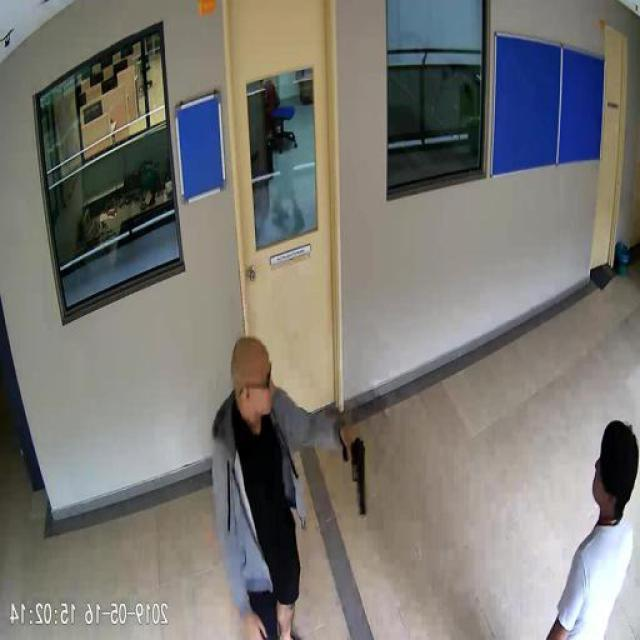weapon: (338, 429, 369, 518)
